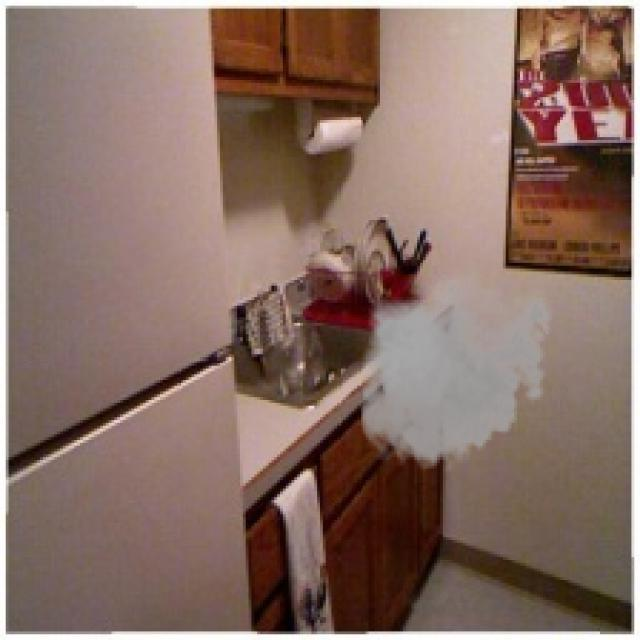Smoke: (352, 262, 557, 478)
